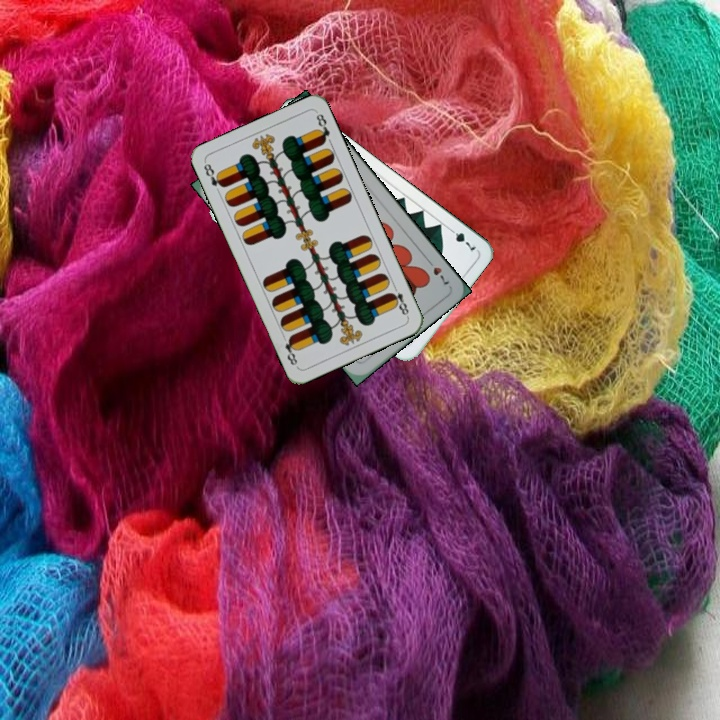E8: (386, 281, 411, 320), (200, 159, 227, 190)
G7: (444, 223, 478, 255)
H7: (422, 254, 452, 287)
